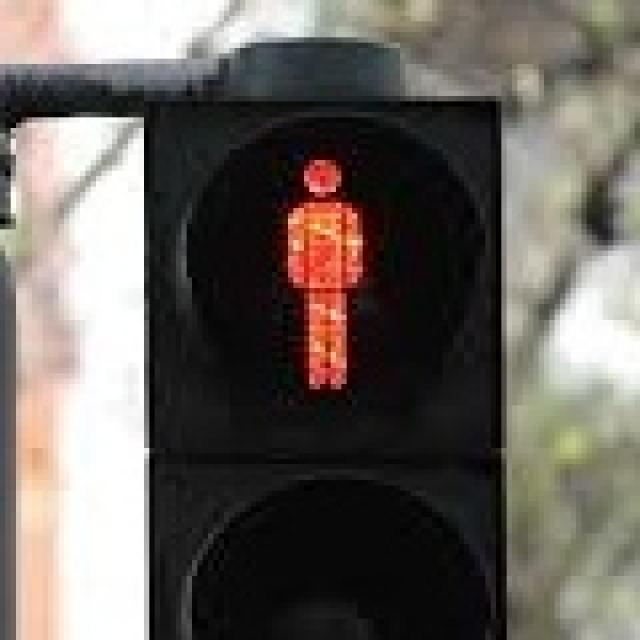red-crossing: (240, 117, 400, 411)
